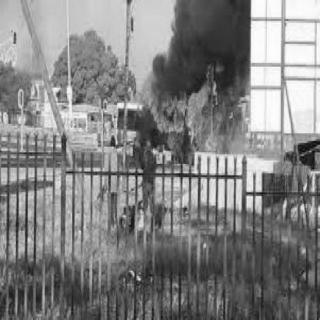Fire: (142, 73, 248, 153)
Smoke: (153, 1, 245, 80)
